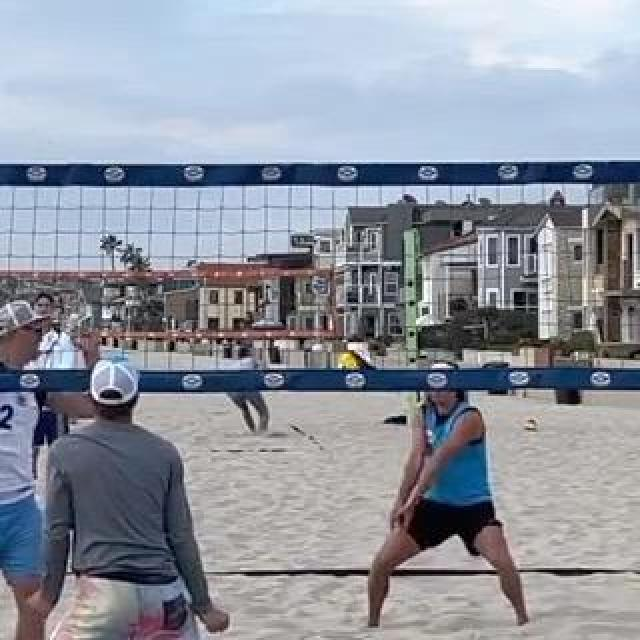volleyball: (332, 348, 378, 390), (522, 418, 540, 434)
